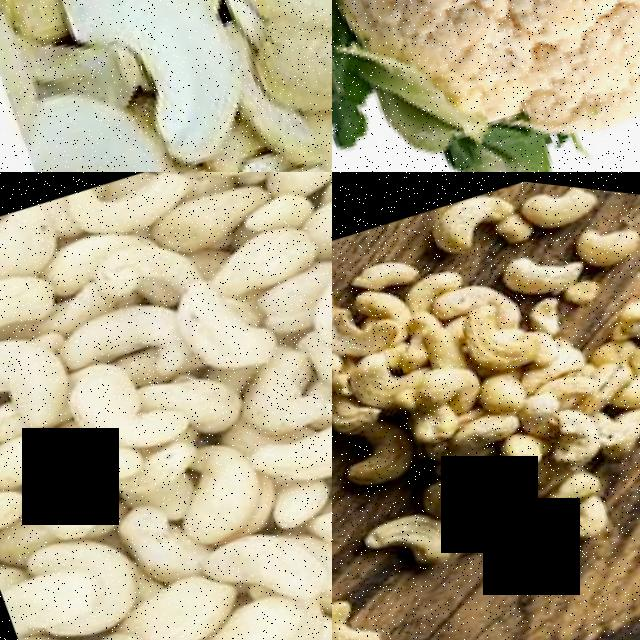cashew: (46, 274, 181, 386), (165, 262, 274, 391), (212, 490, 329, 608), (59, 506, 151, 640), (124, 545, 248, 640), (356, 484, 464, 585), (203, 213, 321, 303), (247, 391, 332, 489), (422, 175, 523, 250), (281, 425, 332, 557), (547, 479, 635, 555), (575, 194, 640, 282), (332, 558, 401, 640), (522, 176, 617, 234), (418, 349, 488, 420), (294, 298, 332, 412), (545, 450, 615, 505), (298, 228, 332, 335), (494, 417, 556, 470), (307, 179, 332, 257)
cauliflower: (332, 0, 640, 172)
